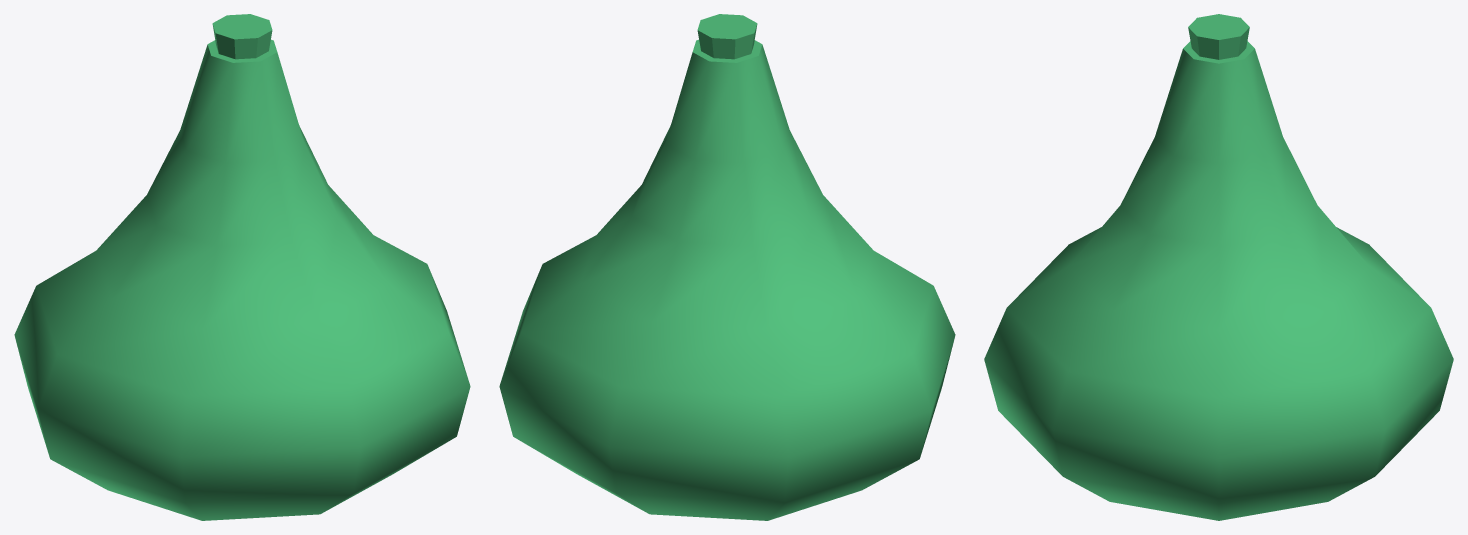
Rendered from Pot_01.fbx.
3 views of the same model, side by side, from view 1: azimuth 30°, elevation 25°; view 2: azimuth 150°, elevation 25°; view 3: azimuth 270°, elevation 25° (orthographic).
Parts seen in each view (by area): view 1: pSphere29; view 2: pSphere29; view 3: pSphere29.
Boxes of the visible parts, x1,y1,x2,y2 form: pSphere29: (14, 14, 470, 520); pSphere29: (499, 14, 955, 520); pSphere29: (984, 14, 1453, 520).
Bounding box in the file's own units: 0.2467 × 0.2635 × 0.2467.
